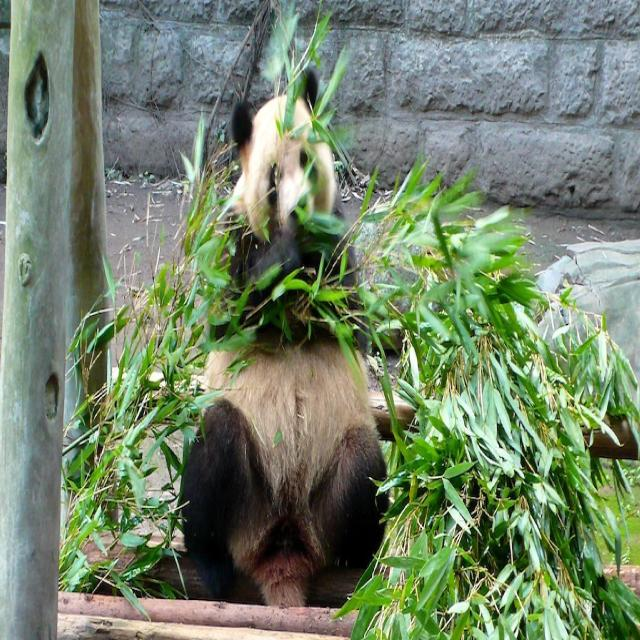panda: (177, 69, 391, 604)
